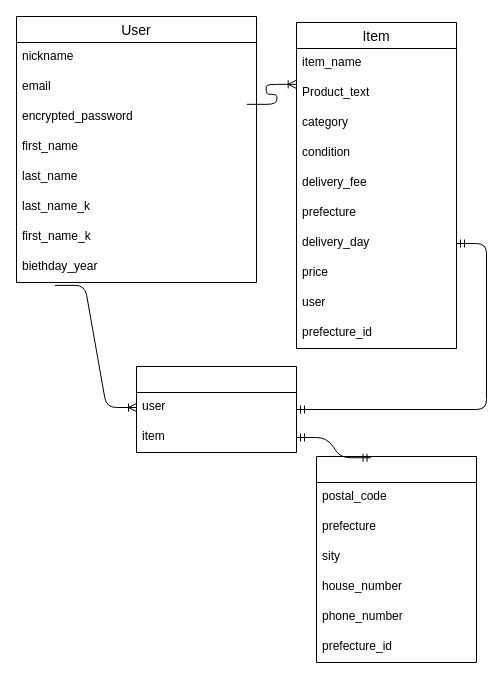
Some shapes in this 503 by 679 pixel diagram are drawn without their labels. Each missing label, with the box of its shape:
Address: (316, 456, 476, 662)
Oeder: (136, 366, 296, 452)
